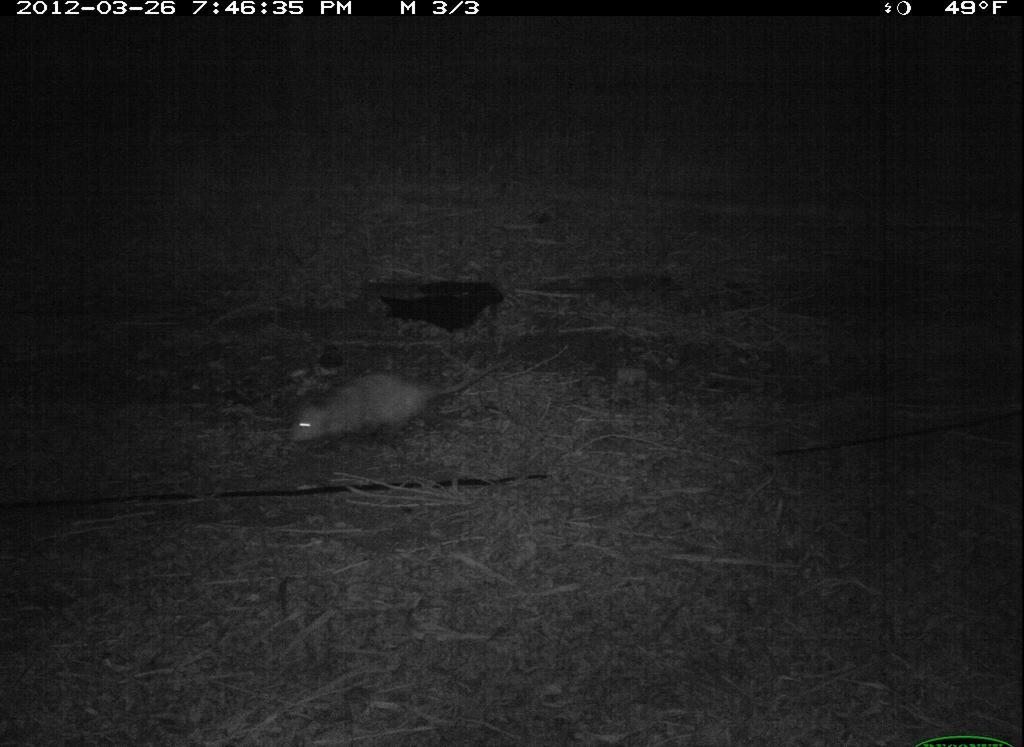opossum: (289, 355, 520, 451)
